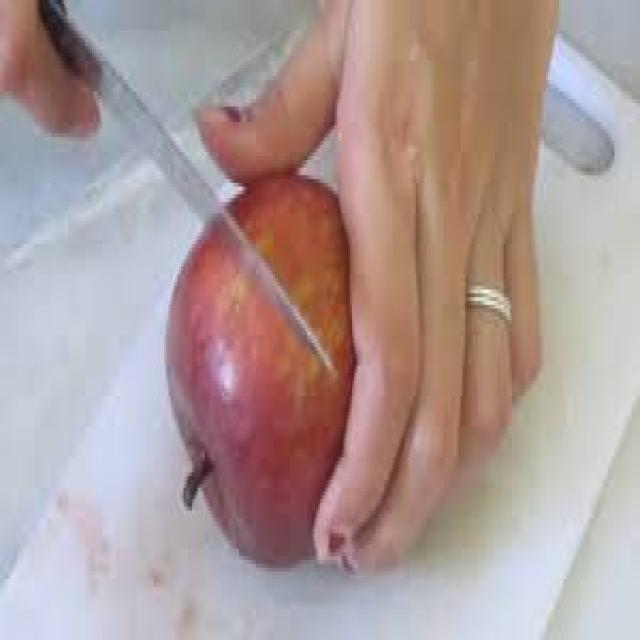Apple: (167, 174, 366, 569)
